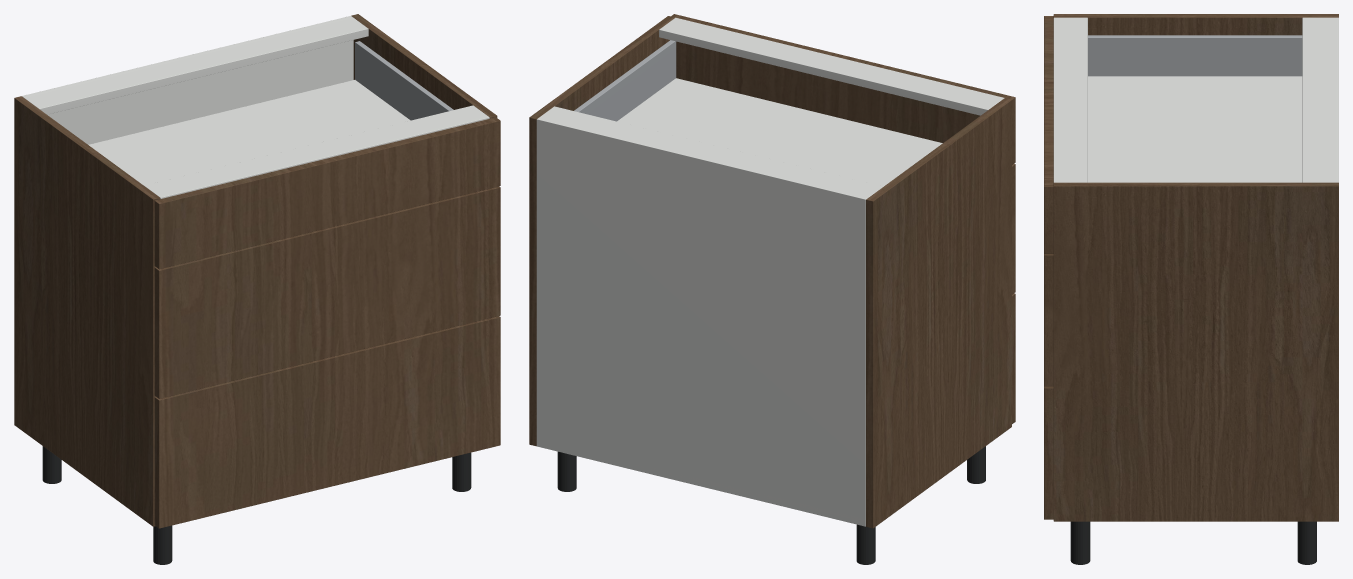
The model's file is oppein-pb-mso-3db33.glb.
3 views of the same model, side by side, from view 1: azimuth 30°, elevation 25°; view 2: azimuth 150°, elevation 25°; view 3: azimuth 270°, elevation 25° (orthographic). The views are drawn at different scales.
Visible parts, largest first — view 1: Cabinet side, Drawer front, Drawer front.001, Drawer front.002, Drawer floor.002, Cabinet back, Top support rail, Top support rail.001, Drawer side.005, Cabinet side.001, Adjustable foot.001, Adjustable foot.003 (+1 smaller); view 2: Cabinet back, Cabinet side, Drawer floor.002, Drawer front.002, Top support rail.001, Cabinet side.001, Top support rail, Drawer side.005, Adjustable foot, Adjustable foot.002; view 3: Cabinet side.001, Drawer floor.002, Drawer side.004, Top support rail.001, Top support rail, Cabinet side, Drawer front.002, Drawer front, Drawer front.001, Cabinet back, Adjustable foot.003, Adjustable foot.002.
Part boxes in pixels (x1,y1,x2,y2): Cabinet side: (14,96,160,526); Drawer front: (154,316,500,528); Drawer front.001: (154,186,500,398); Drawer front.002: (154,117,500,269); Drawer floor.002: (88,80,410,185); Cabinet back: (22,16,353,144); Top support rail: (24,17,368,114); Top support rail.001: (144,105,489,198); Drawer side.005: (355,41,453,120); Cabinet side.001: (351,14,497,118); Adjustable foot.001: (153,525,172,564); Adjustable foot.003: (452,452,471,491); Cabinet back: (536,117,867,526); Cabinet side: (866,98,1011,528); Drawer floor.002: (617,78,942,186); Drawer front.002: (671,14,1015,164); Top support rail.001: (659,17,1004,115); Cabinet side.001: (529,16,674,446); Top support rail: (540,106,883,198); Drawer side.005: (574,40,676,121); Adjustable foot: (856,524,875,564); Adjustable foot.002: (557,451,576,491); Cabinet side.001: (1053,182,1338,521); Drawer floor.002: (1088,76,1302,182); Drawer side.004: (1088,35,1302,76); Top support rail.001: (1053,17,1087,182); Top support rail: (1302,17,1333,182); Cabinet side: (1053,14,1338,35); Drawer front.002: (1044,16,1053,253); Drawer front: (1044,386,1053,519); Drawer front.001: (1044,254,1053,386); Cabinet back: (1333,17,1338,182); Adjustable foot.003: (1070,521,1090,564); Adjustable foot.002: (1297,521,1316,564).
Size of the model in its own units: 0.8382 by 0.8763 by 0.6064.
4 materials, 1 textured.
